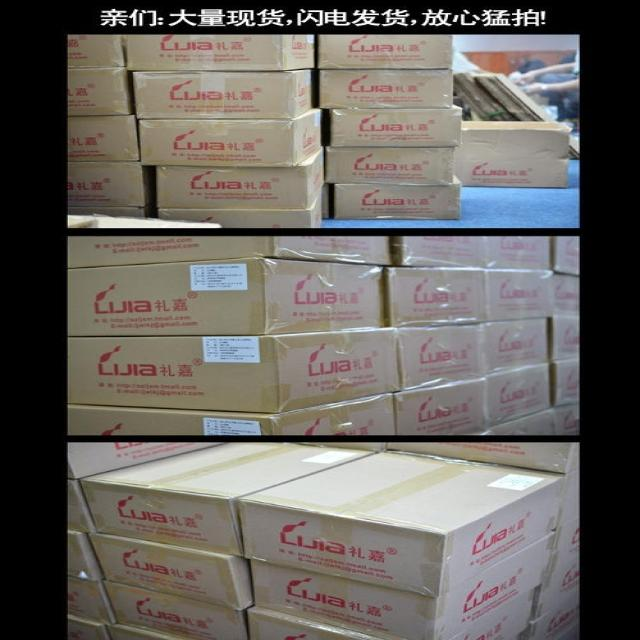box: (237, 449, 567, 596), (79, 442, 379, 556), (244, 536, 558, 640), (68, 327, 402, 413), (68, 259, 385, 336), (69, 392, 397, 435), (92, 530, 256, 611), (138, 107, 323, 167), (68, 236, 392, 268), (156, 148, 325, 209), (128, 69, 311, 119), (102, 580, 248, 639), (458, 120, 571, 188), (124, 35, 315, 71), (156, 188, 325, 228), (394, 323, 488, 390), (385, 266, 486, 326), (381, 443, 580, 473), (68, 443, 227, 479), (329, 105, 462, 148), (393, 377, 488, 434), (328, 146, 458, 186), (319, 70, 453, 108), (334, 180, 461, 220), (246, 606, 385, 639), (319, 35, 452, 69), (536, 520, 581, 619), (445, 590, 532, 640), (488, 361, 552, 428), (68, 162, 155, 206), (481, 318, 549, 374), (485, 269, 554, 321), (68, 115, 140, 161), (68, 66, 133, 116), (520, 587, 582, 639), (392, 236, 489, 268), (68, 576, 116, 625), (488, 236, 552, 269), (67, 35, 125, 68), (479, 409, 554, 434), (68, 531, 105, 581), (67, 479, 97, 533), (548, 360, 580, 407), (557, 470, 582, 525), (549, 317, 580, 360), (553, 270, 580, 317), (284, 441, 387, 452), (68, 203, 155, 216), (68, 614, 113, 639), (553, 235, 579, 278), (109, 623, 177, 639), (552, 403, 580, 434)
